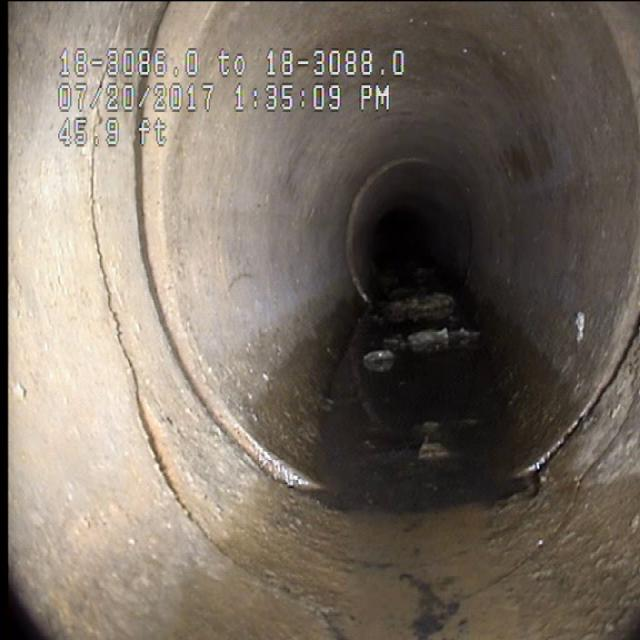Fracture: (64, 193, 191, 544)
